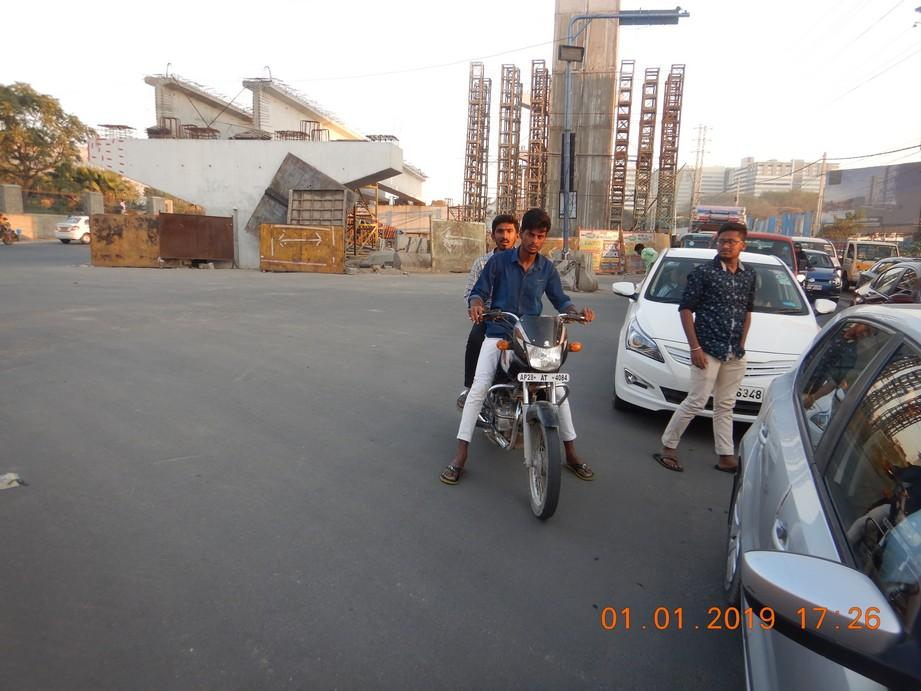plate: (518, 371, 570, 384)
